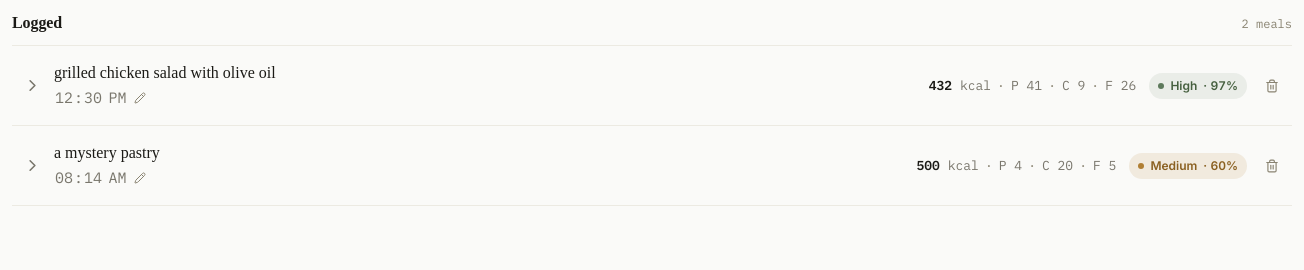
Test case: MealList › shows a calm note when a row has no breakdown detail
Click the button with class "meal-head" that starts with "a mystery pastry". click: {"x": 107, "y": 153}
box: [22, 144, 1284, 189]
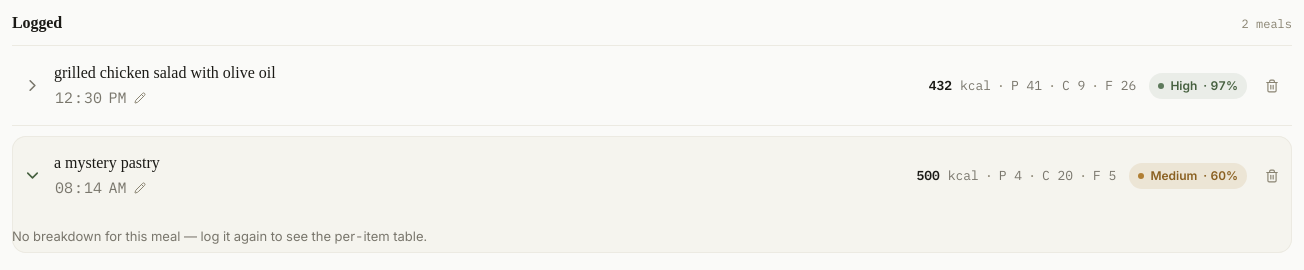
expect the text "No breakdown" is shown: met, box [12, 228, 427, 244]
